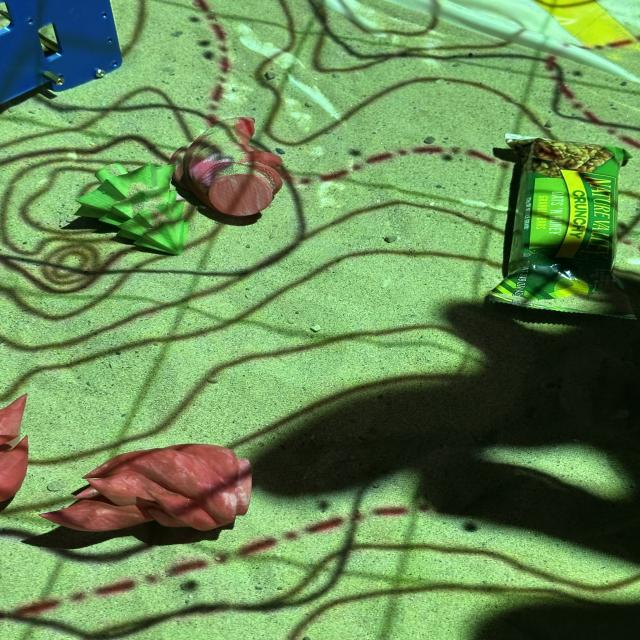fire: (44, 441, 255, 533), (176, 117, 284, 218)
tree: (77, 162, 186, 254)
